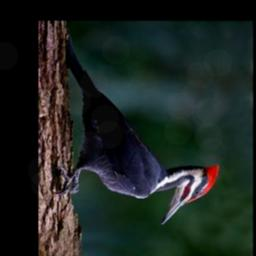Woodpecker: (50, 23, 219, 225)
